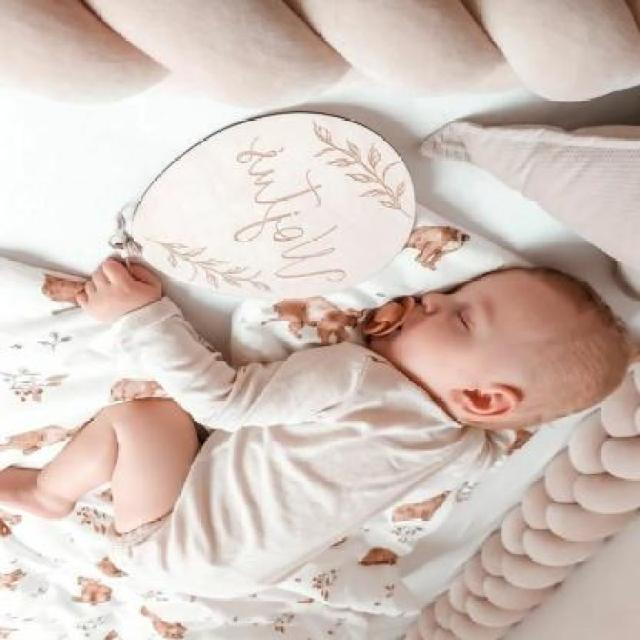baby: (0, 258, 625, 602)
